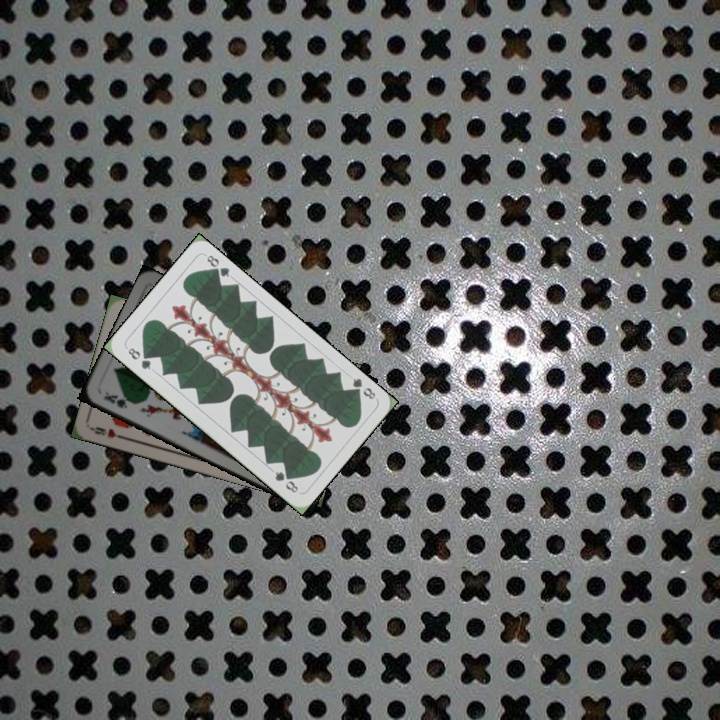G8: (123, 343, 154, 372), (347, 374, 378, 402)
GK: (100, 388, 137, 411)
H9: (88, 422, 128, 442)
